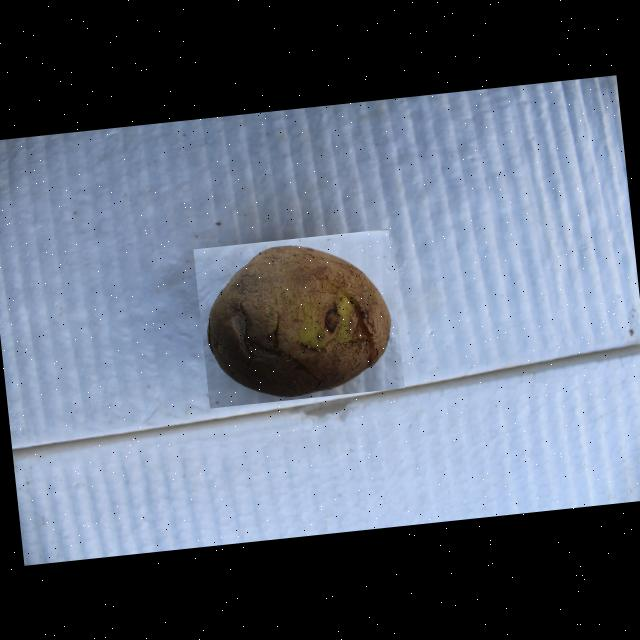Diseased-fungal potato: (192, 228, 404, 408)
